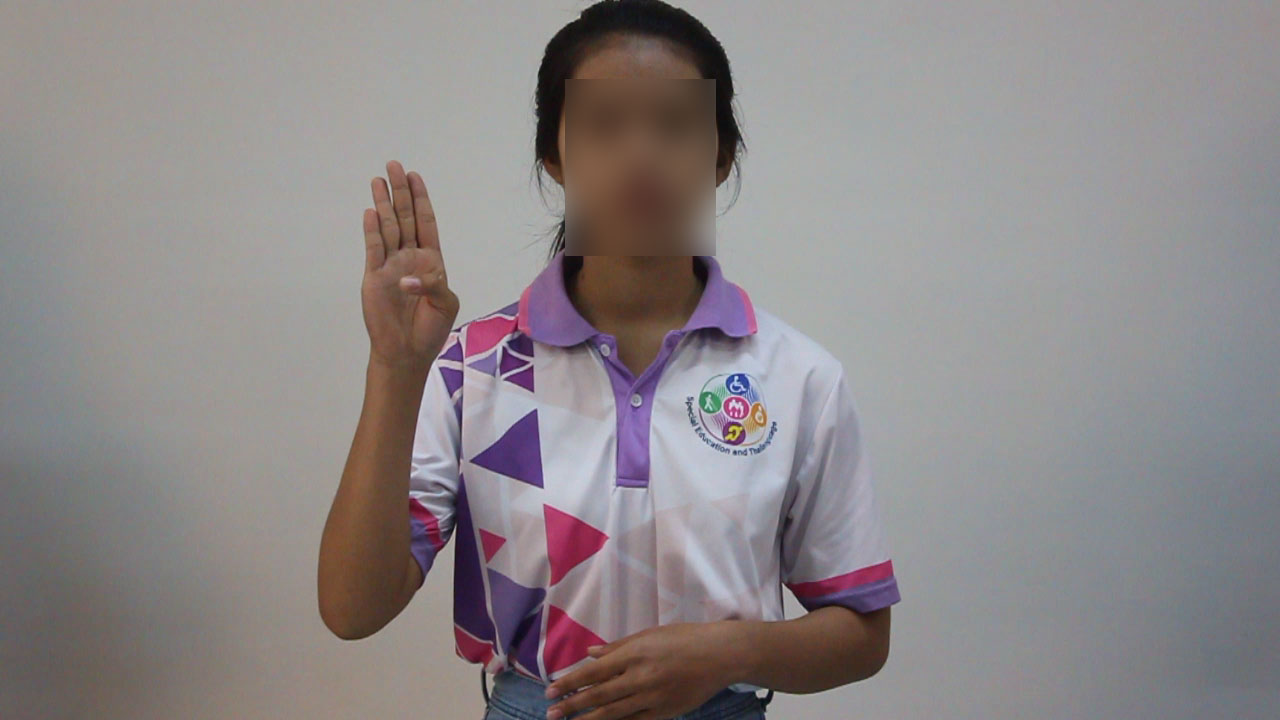bor: (338, 146, 475, 386)
